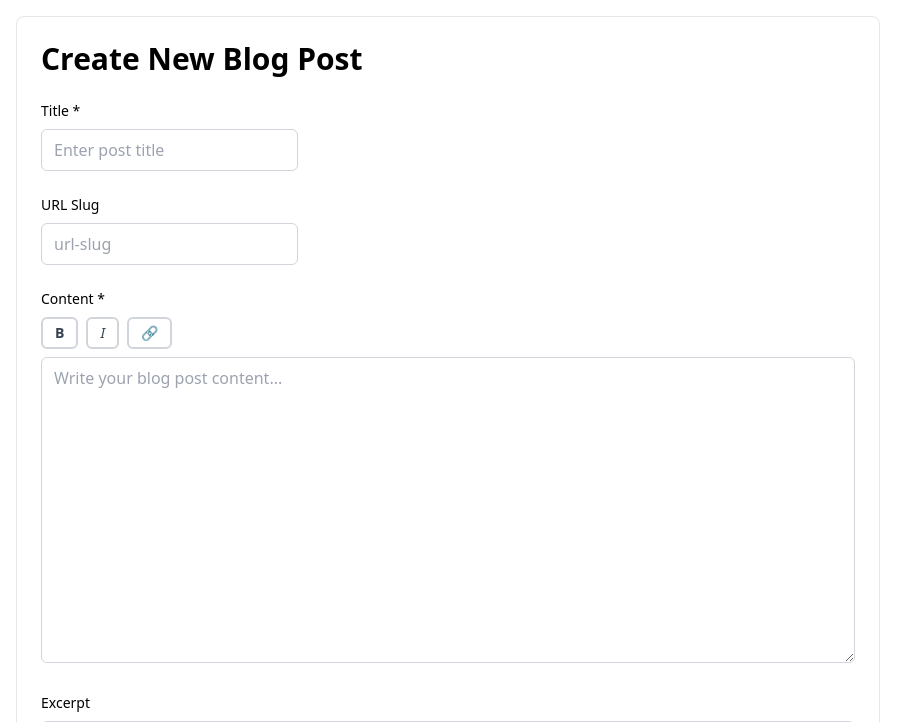
it: BlogAdminEditor › AC-10.5: SEO and Metadata › generates URL slug from title
Type "My Test Post" into the field labelled "Title *" at point(170, 150), box top-left (41, 129), bottom-right (298, 171)
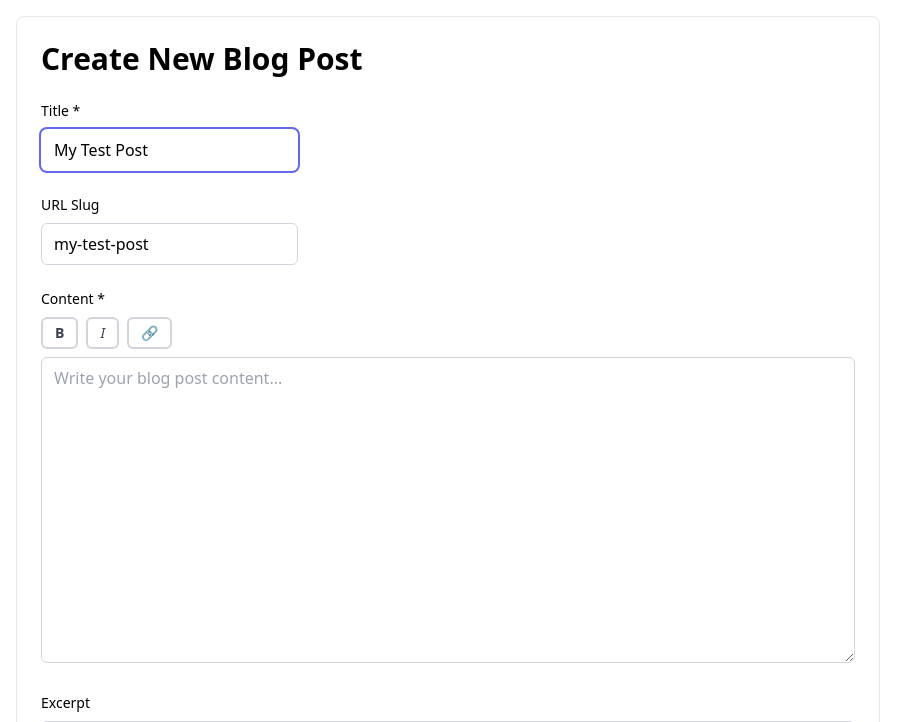
Expected: the field labelled "URL Slug" holds "my-test-post", top-left (41, 223), bottom-right (298, 265)
